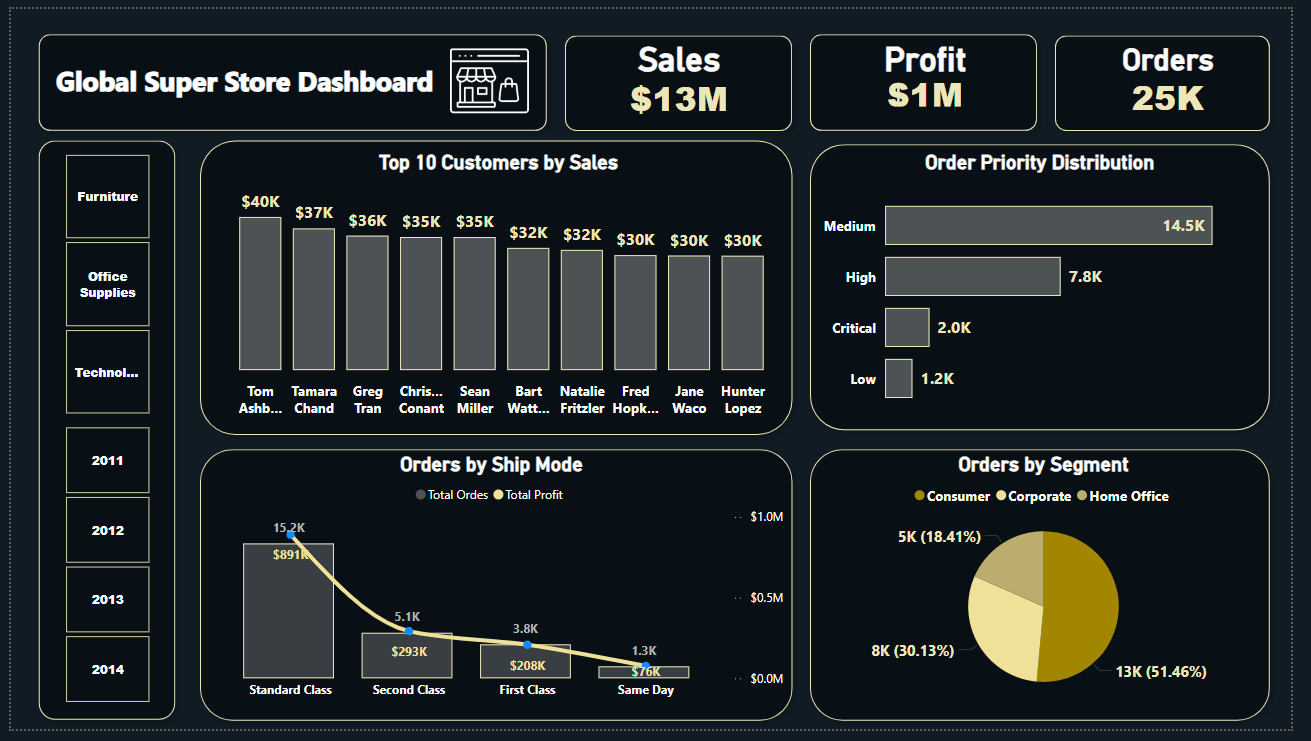

What the dashboard file says about the page in this screenshot:
{"tool":"powerbi","page":{"name":"Customer and Order Analysis","canvas":[1280,720],"ordinal":1},"visuals":[{"type":"shape","box":[19.3,15.7,526,114.6],"z":0},{"type":"textbox","box":[39.8,48.3,395.7,54.3],"z":1000},{"type":"image","box":[421,25.3,114.6,94.1],"z":2000},{"type":"shape","box":[545.3,16.9,244.9,113.4],"z":3000},{"type":"card","title":"Sales","fields":{"Values":["All Measures.Total Sales"]},"box":[567,31.4,201.5,79.6],"z":4000},{"type":"shape","box":[790.2,15.7,244.9,114.6],"z":5000},{"type":"shape","box":[1035.1,16.9,232.8,113.4],"z":6000},{"type":"card","title":"Profit","fields":{"Values":["All Measures.Total Profit"]},"box":[813.1,31.4,201.5,71.2],"z":7000},{"type":"card","title":"Orders","fields":{"Values":["All Measures.Total Ordes"]},"box":[1056.8,32.6,201.5,78.4],"z":8000},{"type":"shape","box":[19.3,123.1,154.4,597.2],"z":9000},{"type":"slicer","fields":{"Values":["Global_Superstorecsv.Category"]},"box":[29,138.7,133.9,272.7],"z":10000},{"type":"shape","box":[790.2,126.7,477.8,304],"z":11000},{"type":"shape","box":[790.2,430.7,477.8,289.5],"z":12000},{"type":"pieChart","title":"Orders by Segment","fields":{"Y":["All Measures.Total Ordes"],"Category":["Global_Superstorecsv.Segment"]},"box":[813.1,444,437.9,255.8],"z":13000},{"type":"barChart","title":"Order Priority Distribution","fields":{"Category":["Global_Superstorecsv.Order Priority"],"Y":["All Measures.Total Ordes"]},"box":[805.9,141.2,445.2,275.1],"z":14000},{"type":"shape","box":[179.8,123.1,610.5,312.5],"z":15000},{"type":"columnChart","title":"Top 10 Customers by Sales","fields":{"Category":["Global_Superstorecsv.Customer Name"],"Y":["All Measures.Total Sales"]},"box":[195.4,141.2,585.1,275.1],"z":16000},{"type":"shape","box":[179.8,430.7,610.5,289.5],"z":17000},{"type":"lineClusteredColumnComboChart","title":"Orders by Ship Mode","fields":{"Y":["All Measures.Total Ordes"],"Y2":["All Measures.Total Profit"],"Category":["Global_Superstorecsv.Ship Mode"]},"box":[179.8,444,600.8,255.8],"z":18000},{"type":"slicer","fields":{"Values":["Global_Superstorecsv.Order Date.Variation.Date Hierarchy.Year"]},"box":[29,411.4,133.9,288.3],"z":19000}]}

Visuals, with their boxes in screenshot pixels (x1, y1, x2, y2), scaled from the page's 1280x720 canvas onto the 1311x741 screenshot:
shape: box(20, 16, 559, 134)
textbox: box(41, 50, 446, 106)
image: box(431, 26, 549, 123)
shape: box(559, 17, 809, 134)
"Sales" card: box(581, 32, 787, 114)
shape: box(809, 16, 1060, 134)
shape: box(1060, 17, 1299, 134)
"Profit" card: box(833, 32, 1039, 106)
"Orders" card: box(1082, 34, 1289, 114)
shape: box(20, 127, 178, 740)
slicer - Global_Superstorecsv.Category: box(30, 143, 167, 423)
shape: box(809, 130, 1299, 443)
shape: box(809, 443, 1299, 740)
"Orders by Segment" pieChart: box(833, 457, 1281, 720)
"Order Priority Distribution" barChart: box(825, 145, 1281, 428)
shape: box(184, 127, 809, 448)
"Top 10 Customers by Sales" columnChart: box(200, 145, 799, 428)
shape: box(184, 443, 809, 740)
"Orders by Ship Mode" lineClusteredColumnComboChart: box(184, 457, 800, 720)
slicer - Global_Superstorecsv.Order Date.Variation.Date Hierarchy.Year: box(30, 423, 167, 720)
